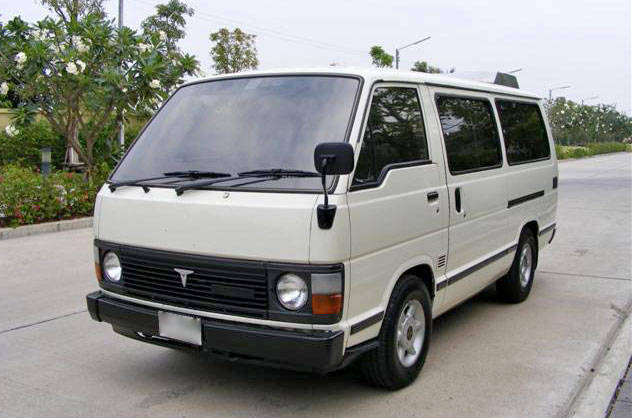van: (85, 64, 562, 391)
